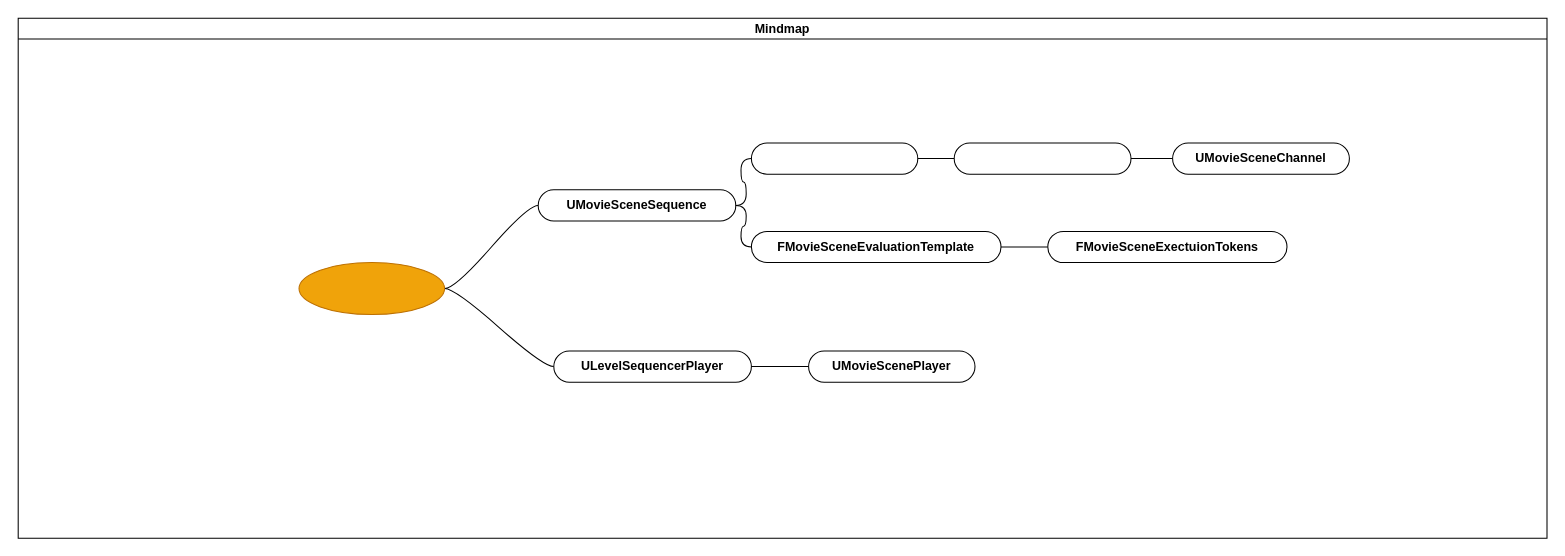
The diagram is 1565 pixels wide and 556 high, and some of its shapes have lost their labels. Each missing label, with the box of its shape:
ALevelSequenceActor: (298, 262, 445, 315)
UMovieSceneSection: (953, 142, 1131, 174)
UMovieSceneTrack: (750, 142, 918, 174)
